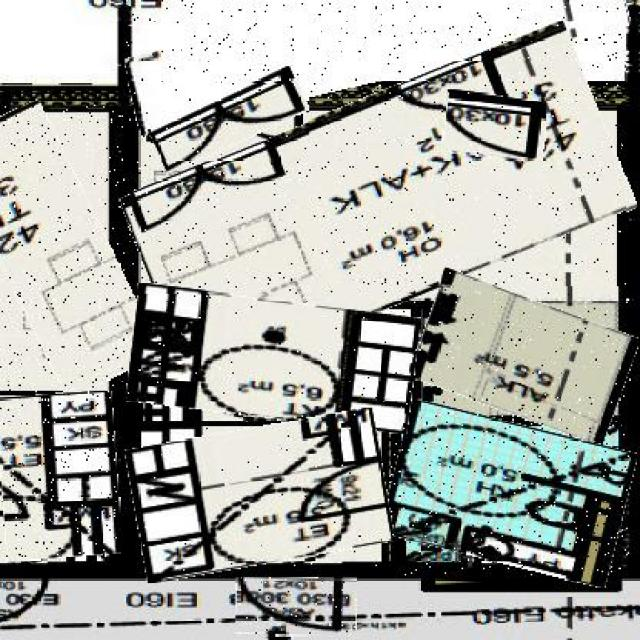door: (151, 83, 309, 160), (235, 578, 357, 637), (443, 94, 546, 160)
zone: (129, 62, 628, 344), (125, 0, 629, 109), (386, 411, 631, 575), (129, 418, 389, 572), (0, 103, 132, 394), (130, 294, 418, 426), (415, 286, 634, 431), (0, 392, 117, 558)
